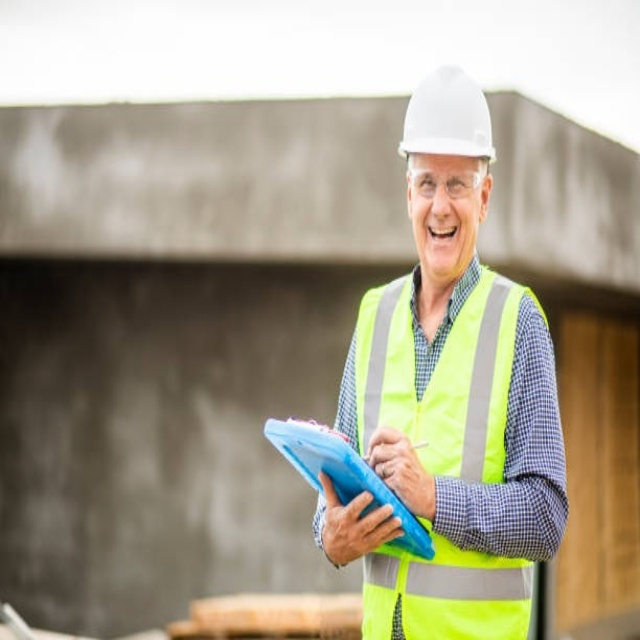Gafas: (408, 162, 487, 200)
Sin_guantes: (318, 468, 406, 569), (365, 420, 435, 515)
Sin_mascara: (421, 218, 461, 260)
